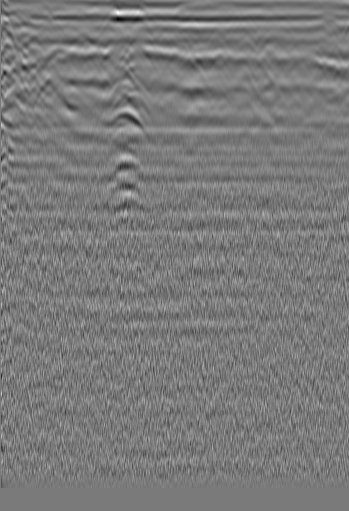가스: (98, 149, 146, 185)
상수: (16, 31, 50, 64)
오수: (311, 18, 341, 45)
우수: (164, 38, 199, 72)
